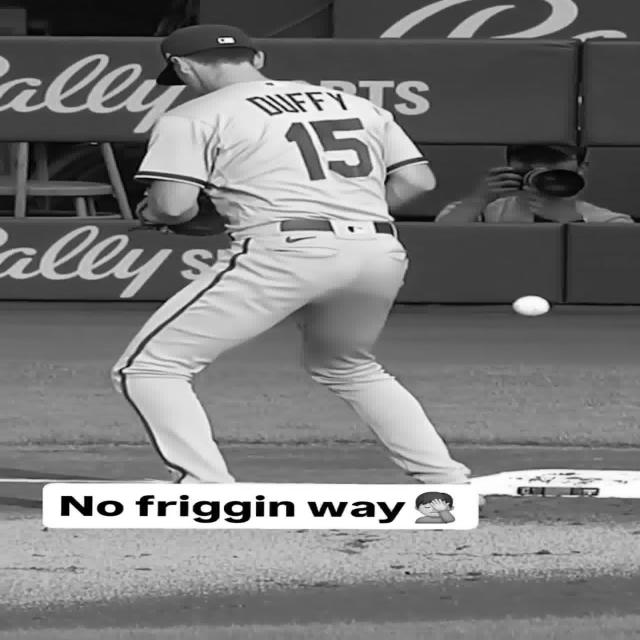base: (471, 469, 640, 499)
baseball: (513, 295, 549, 316)
baseball_glove: (169, 192, 227, 235)
